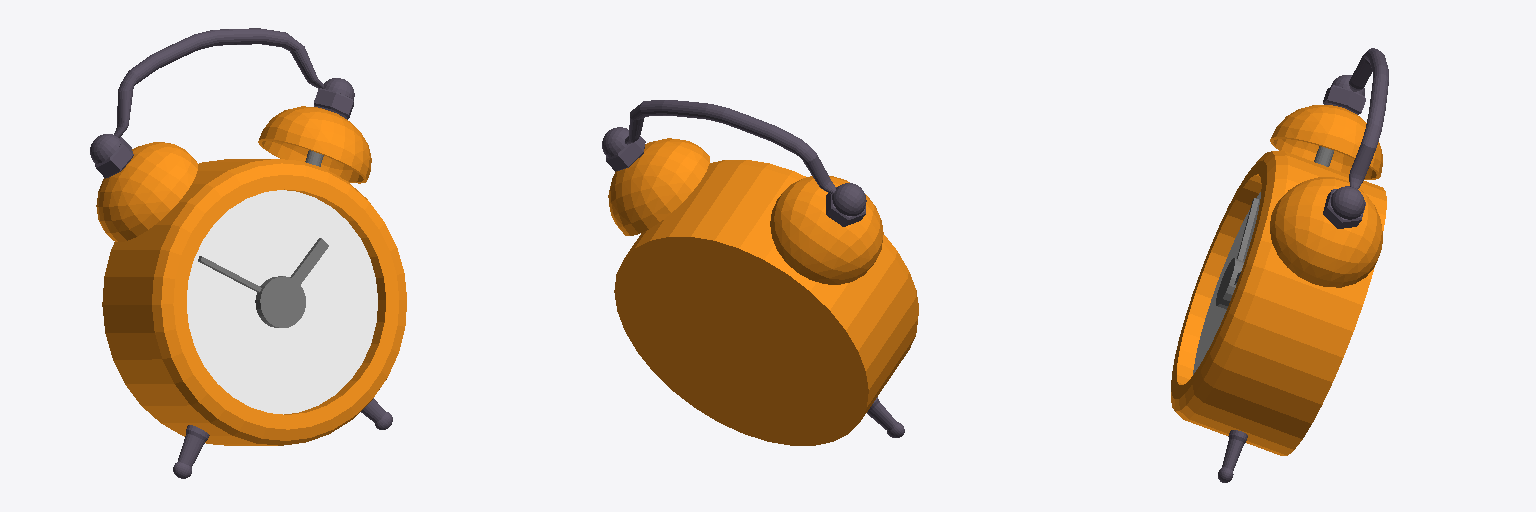
The model's file is timer.obj.
3 views of the same model, side by side, from view 1: azimuth 30°, elevation 25°; view 2: azimuth 150°, elevation 25°; view 3: azimuth 270°, elevation 25° (orthographic).
Parts seen in each view (by area): view 1: base, metal, arrows; view 2: base, metal; view 3: base, metal, arrows.
Part boxes in pixels (left/top/right/bottom): base: left=96, top=106, right=406, bottom=445; metal: left=90, top=28, right=392, bottom=478; arrows: left=198, top=238, right=328, bottom=327; base: left=608, top=138, right=918, bottom=445; metal: left=602, top=100, right=904, bottom=437; base: left=1171, top=105, right=1386, bottom=455; metal: left=1218, top=48, right=1388, bottom=482; arrows: left=1216, top=198, right=1258, bottom=309.
Size of the model in its own units: 1.39 by 1.9 by 1.01.